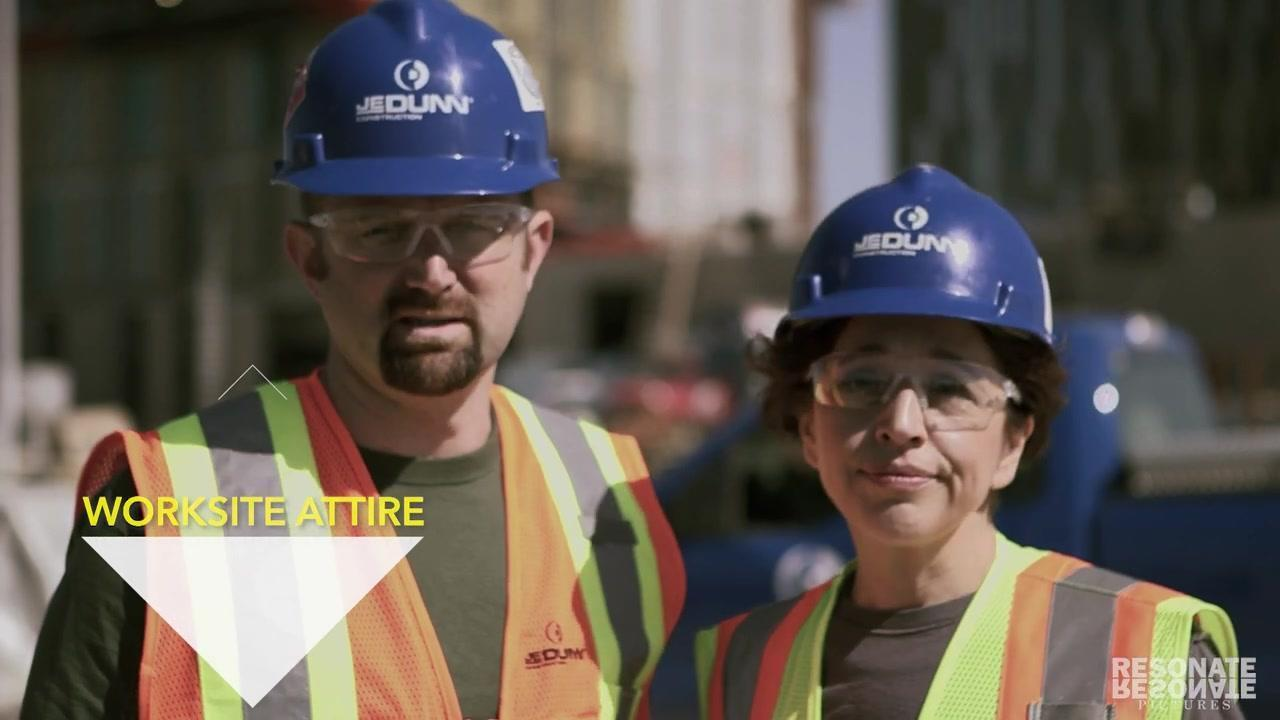vest: (68, 366, 688, 717), (695, 535, 1243, 718)
